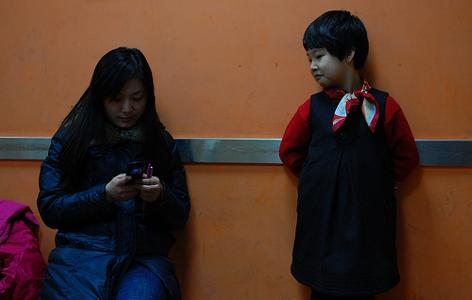person: (36, 47, 188, 300)
